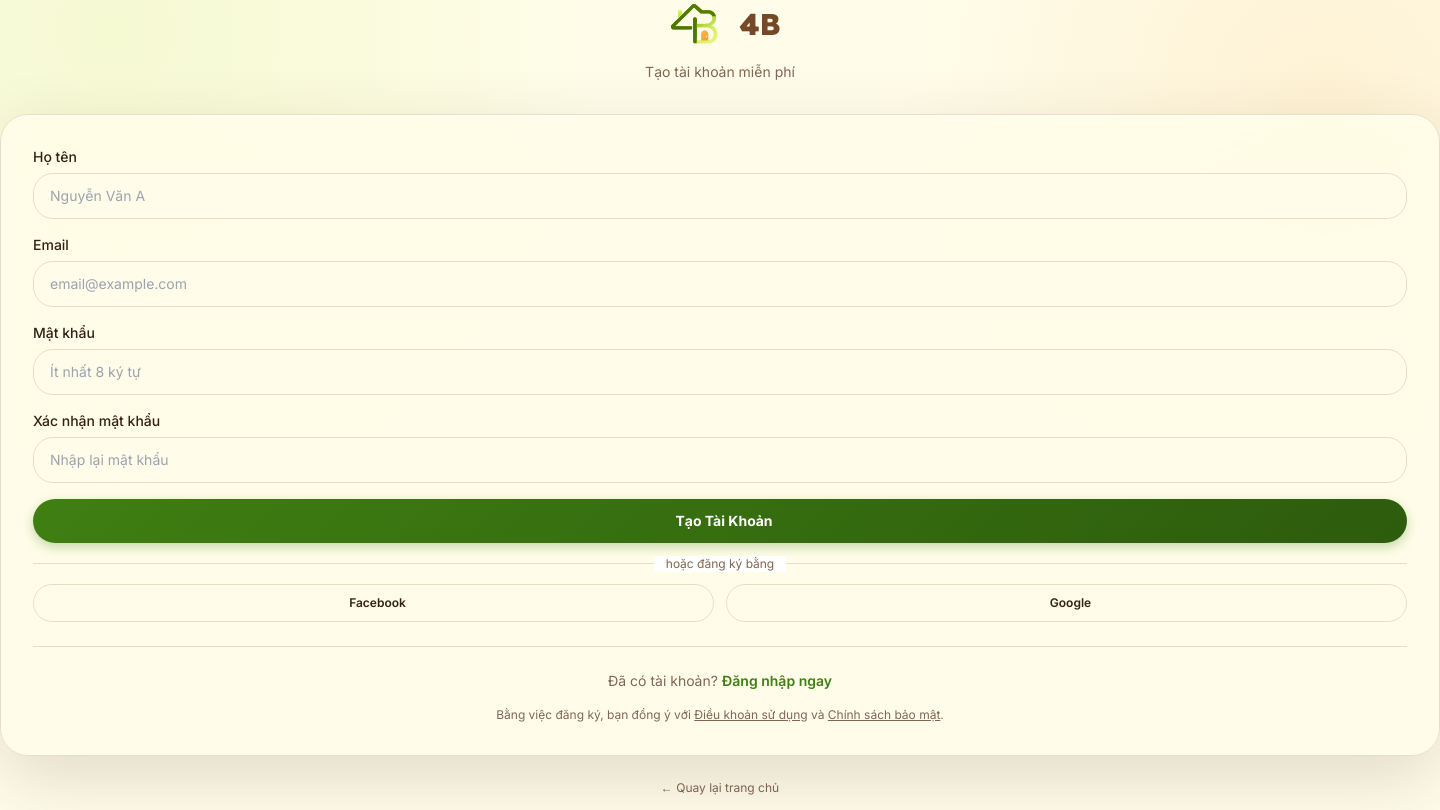
Test case: Authentication Pages › RegisterPage › validates password length and matching passwords
The width and height of the screenshot is (1440, 810).
In the field with placeholder "Nguyễn Văn A": (720, 196) top-left (33, 173), bottom-right (1407, 219), type "Test User"
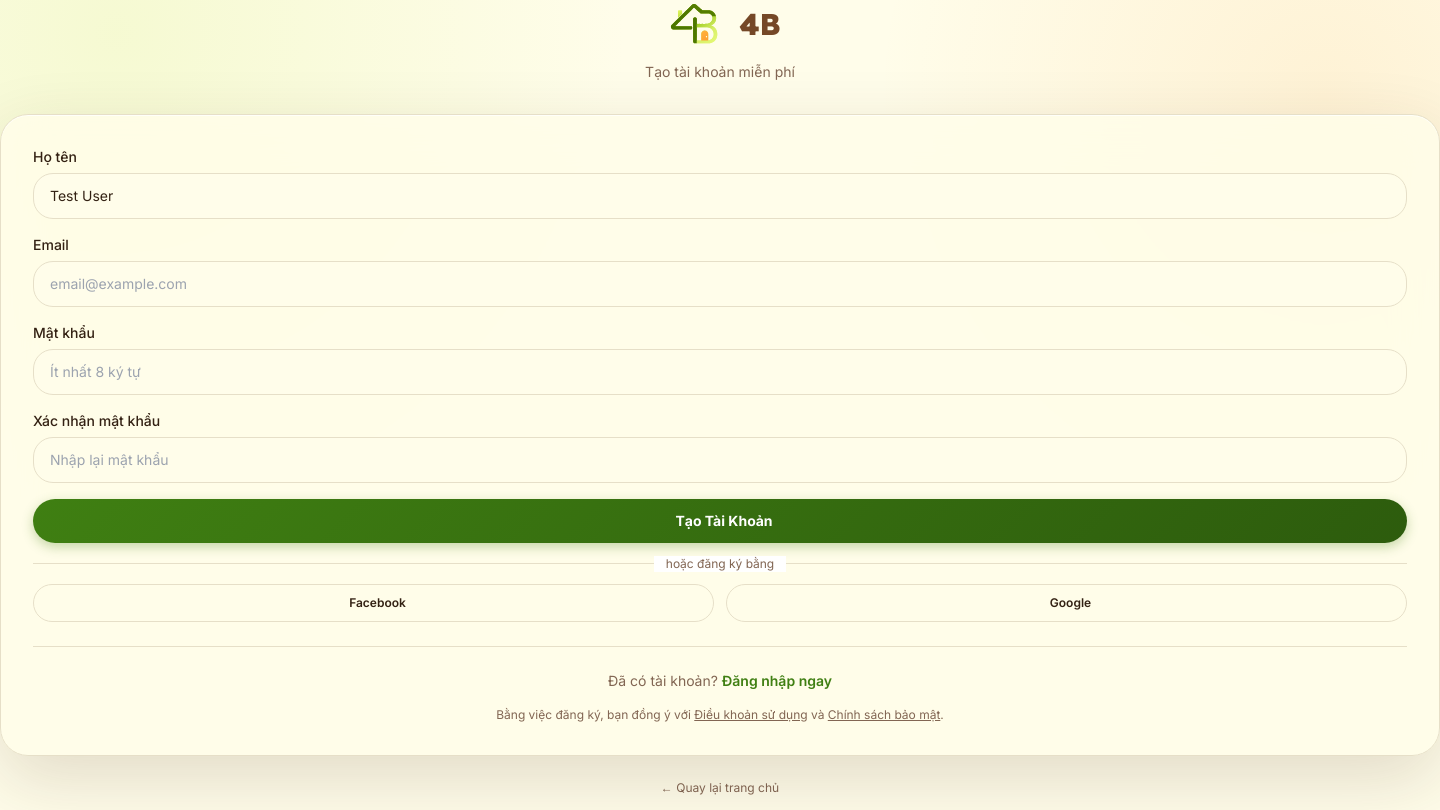
In the field with placeholder "email@example.com": (720, 284) top-left (33, 261), bottom-right (1407, 307), type "test@example.com"
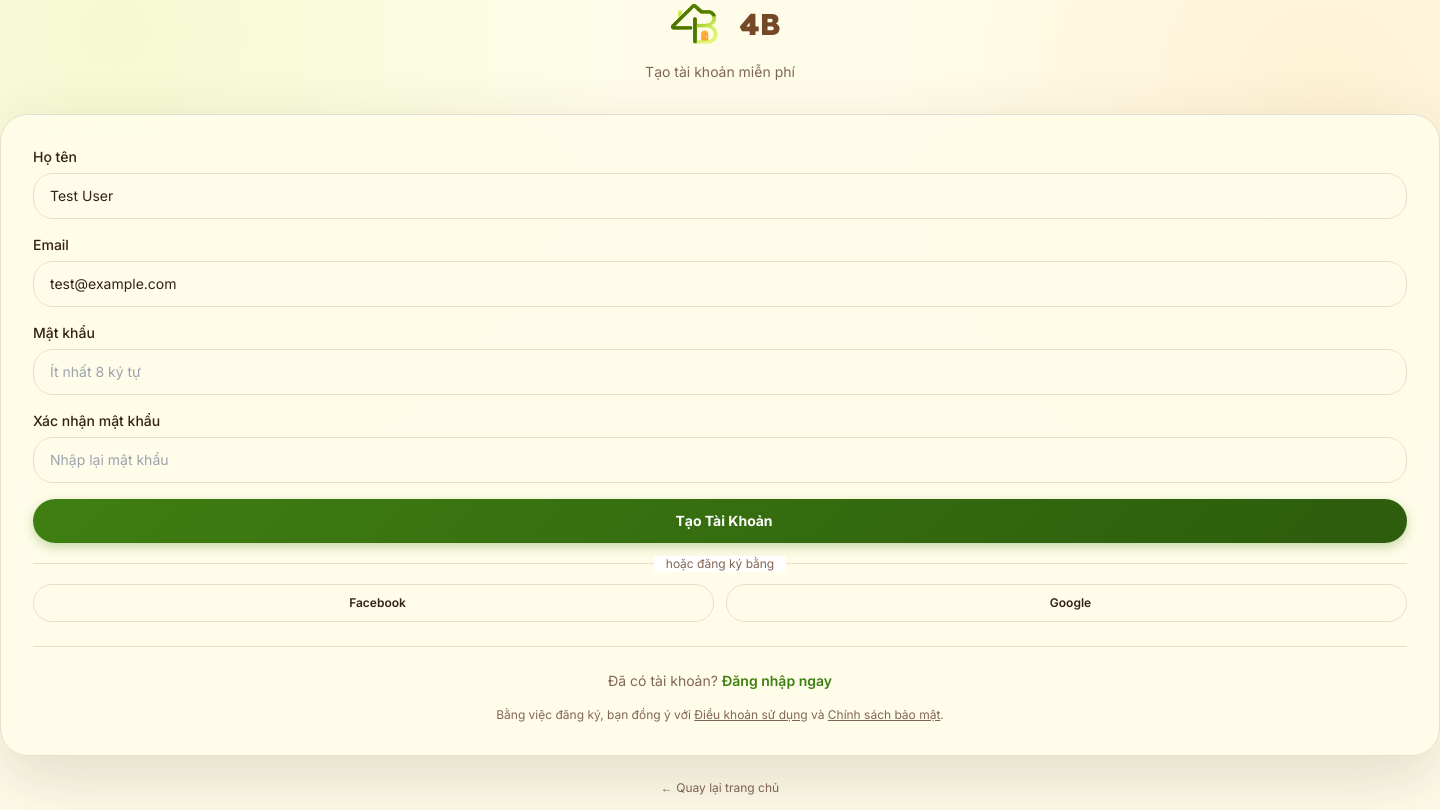
In the password field with placeholder "Ít nhất 8 ký tự": (720, 372) top-left (33, 349), bottom-right (1407, 395), type "123"
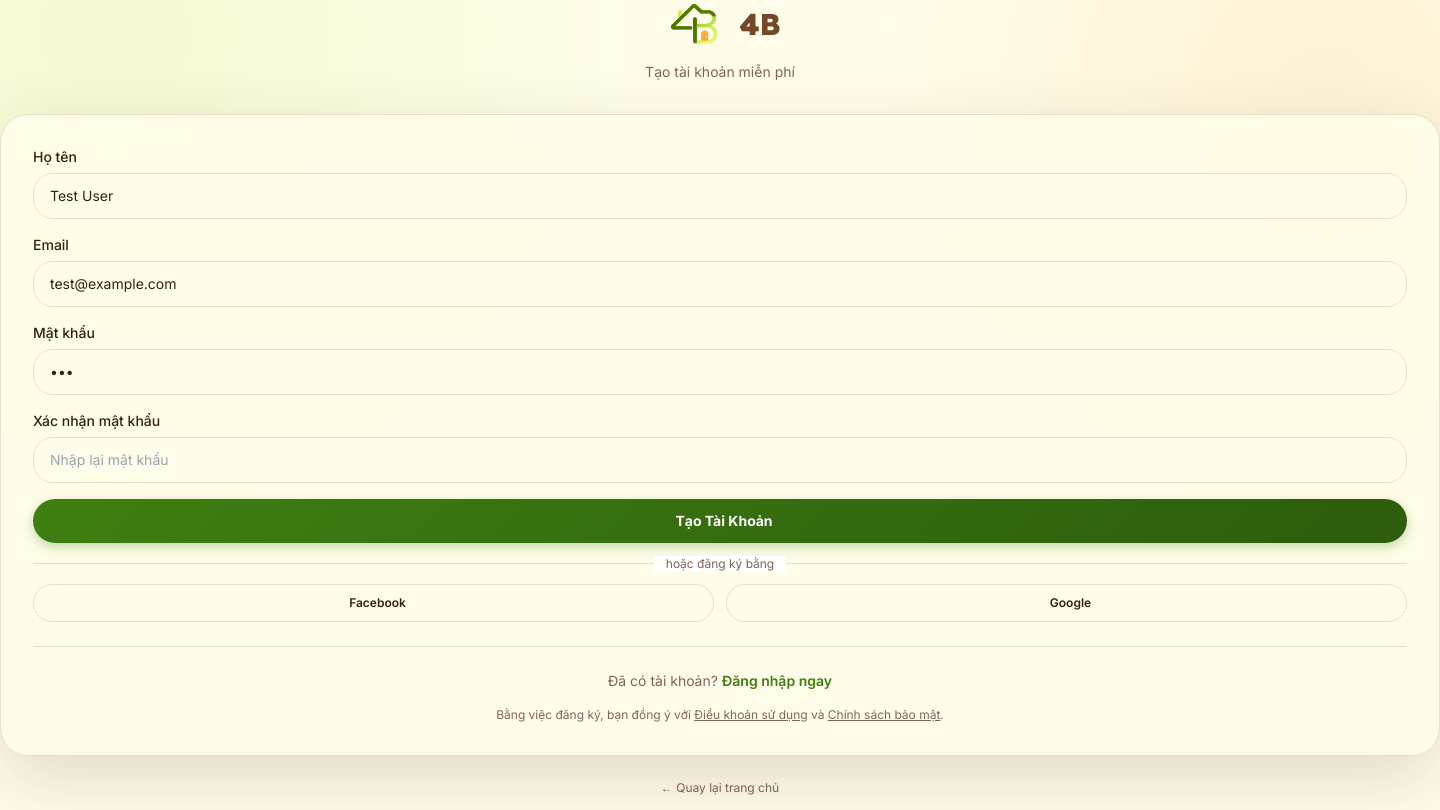
In the password field with placeholder "Nhập lại mật khẩu": (720, 460) top-left (33, 437), bottom-right (1407, 483), type "12345678"
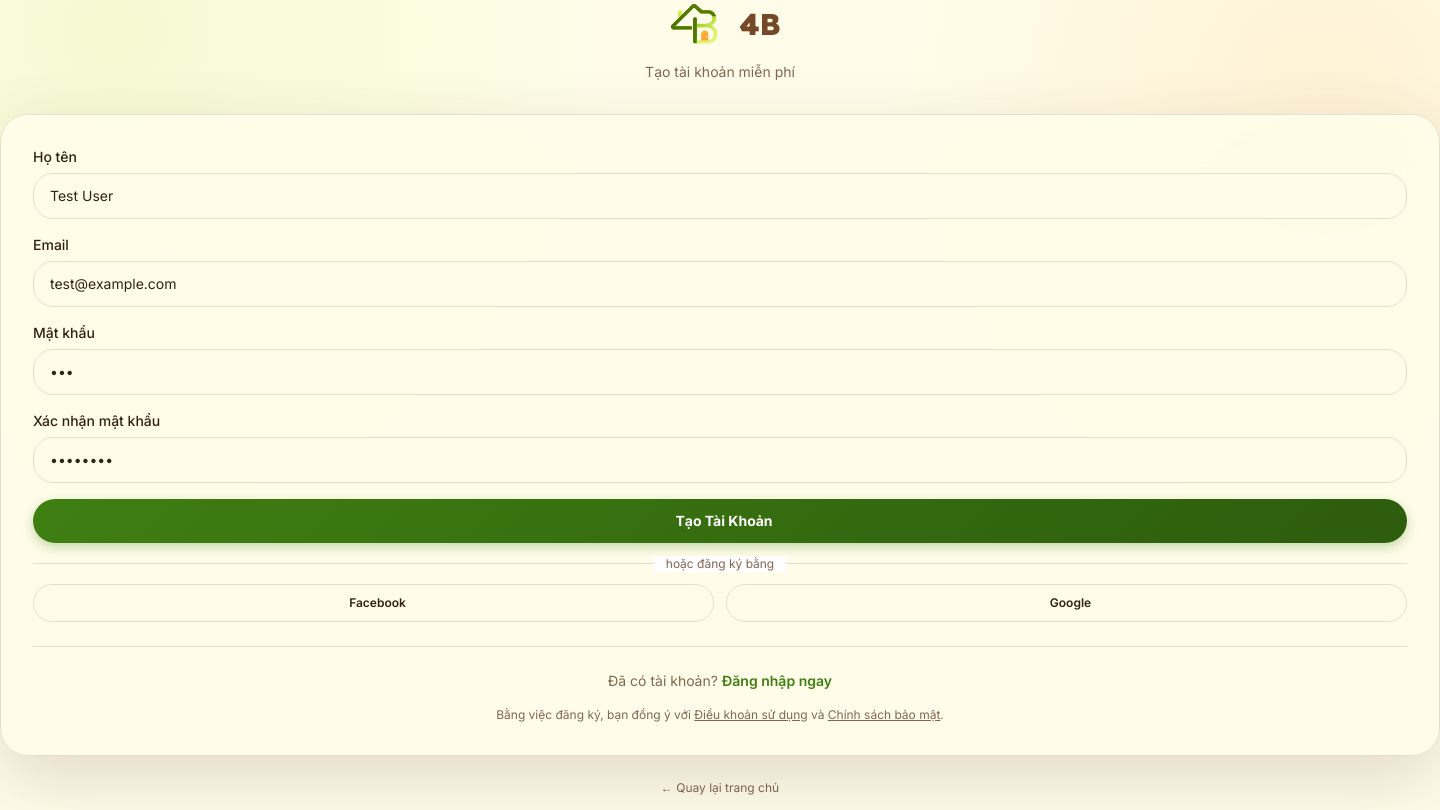
Click the button "Tạo Tài Khoản": (720, 521) top-left (33, 499), bottom-right (1407, 543)
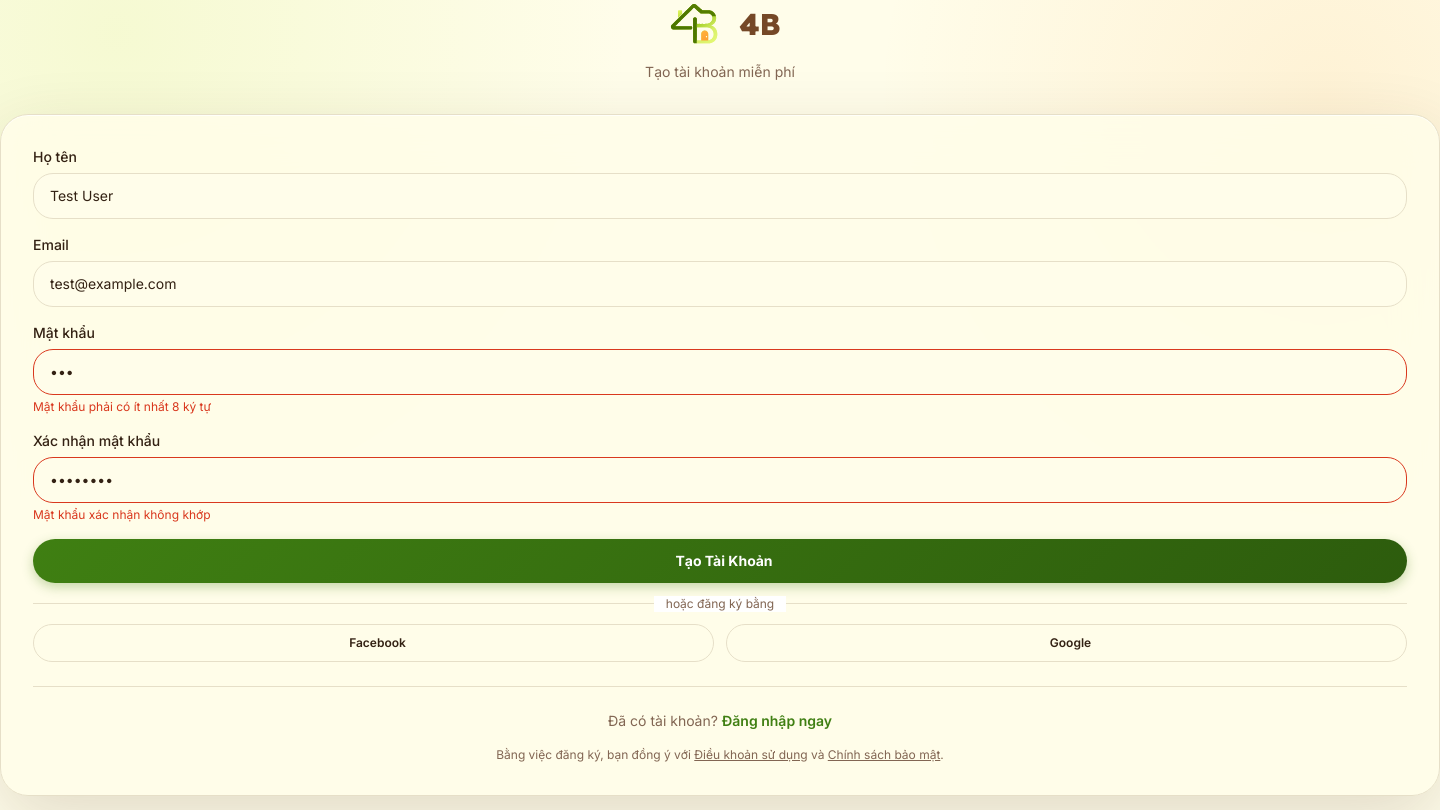
Now the text "Mật khẩu phải có ít nhất 8 ký tự" is shown, box top-left (33, 399), bottom-right (211, 414)
Now the text "Mật khẩu xác nhận không khớp" is shown, box top-left (33, 507), bottom-right (211, 522)
